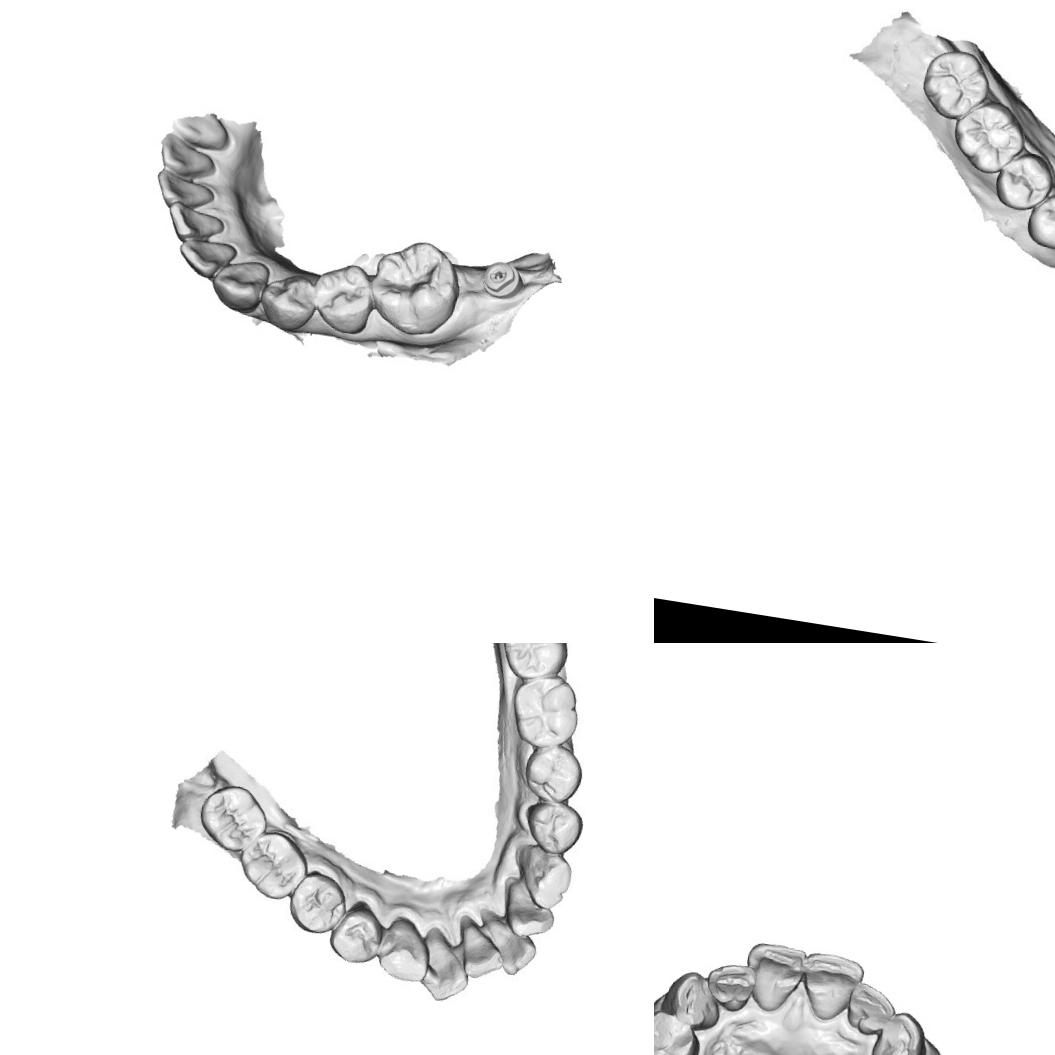canine: (507, 840, 578, 915), (373, 911, 436, 987), (658, 964, 726, 1031), (207, 254, 272, 318), (867, 1006, 929, 1055)
implant_minus: (480, 258, 528, 304)
incisor: (738, 936, 810, 1016), (796, 949, 868, 1026), (414, 925, 477, 1007), (475, 914, 542, 980), (498, 878, 562, 943), (452, 922, 510, 984), (153, 129, 220, 182), (840, 978, 897, 1040), (162, 198, 232, 247), (703, 956, 759, 1016), (150, 167, 221, 214), (174, 234, 239, 284)
molar: (365, 232, 467, 342), (504, 670, 587, 754), (948, 95, 1031, 178), (235, 824, 316, 906), (193, 779, 274, 858), (916, 45, 994, 125), (493, 643, 574, 687)
premolar: (306, 257, 380, 338), (283, 867, 354, 939), (517, 742, 588, 808), (991, 146, 1055, 215), (518, 798, 588, 859), (255, 267, 318, 334), (325, 900, 387, 968), (654, 1005, 703, 1055), (1023, 186, 1055, 254)
